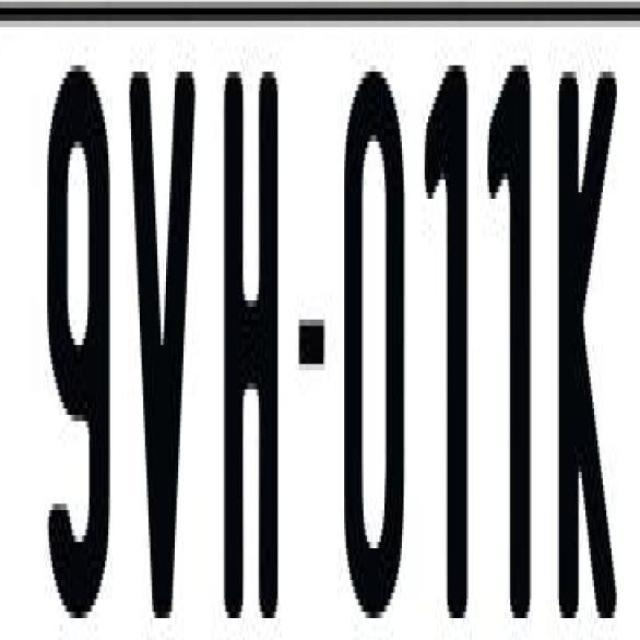license-plate: (14, 22, 640, 640)
